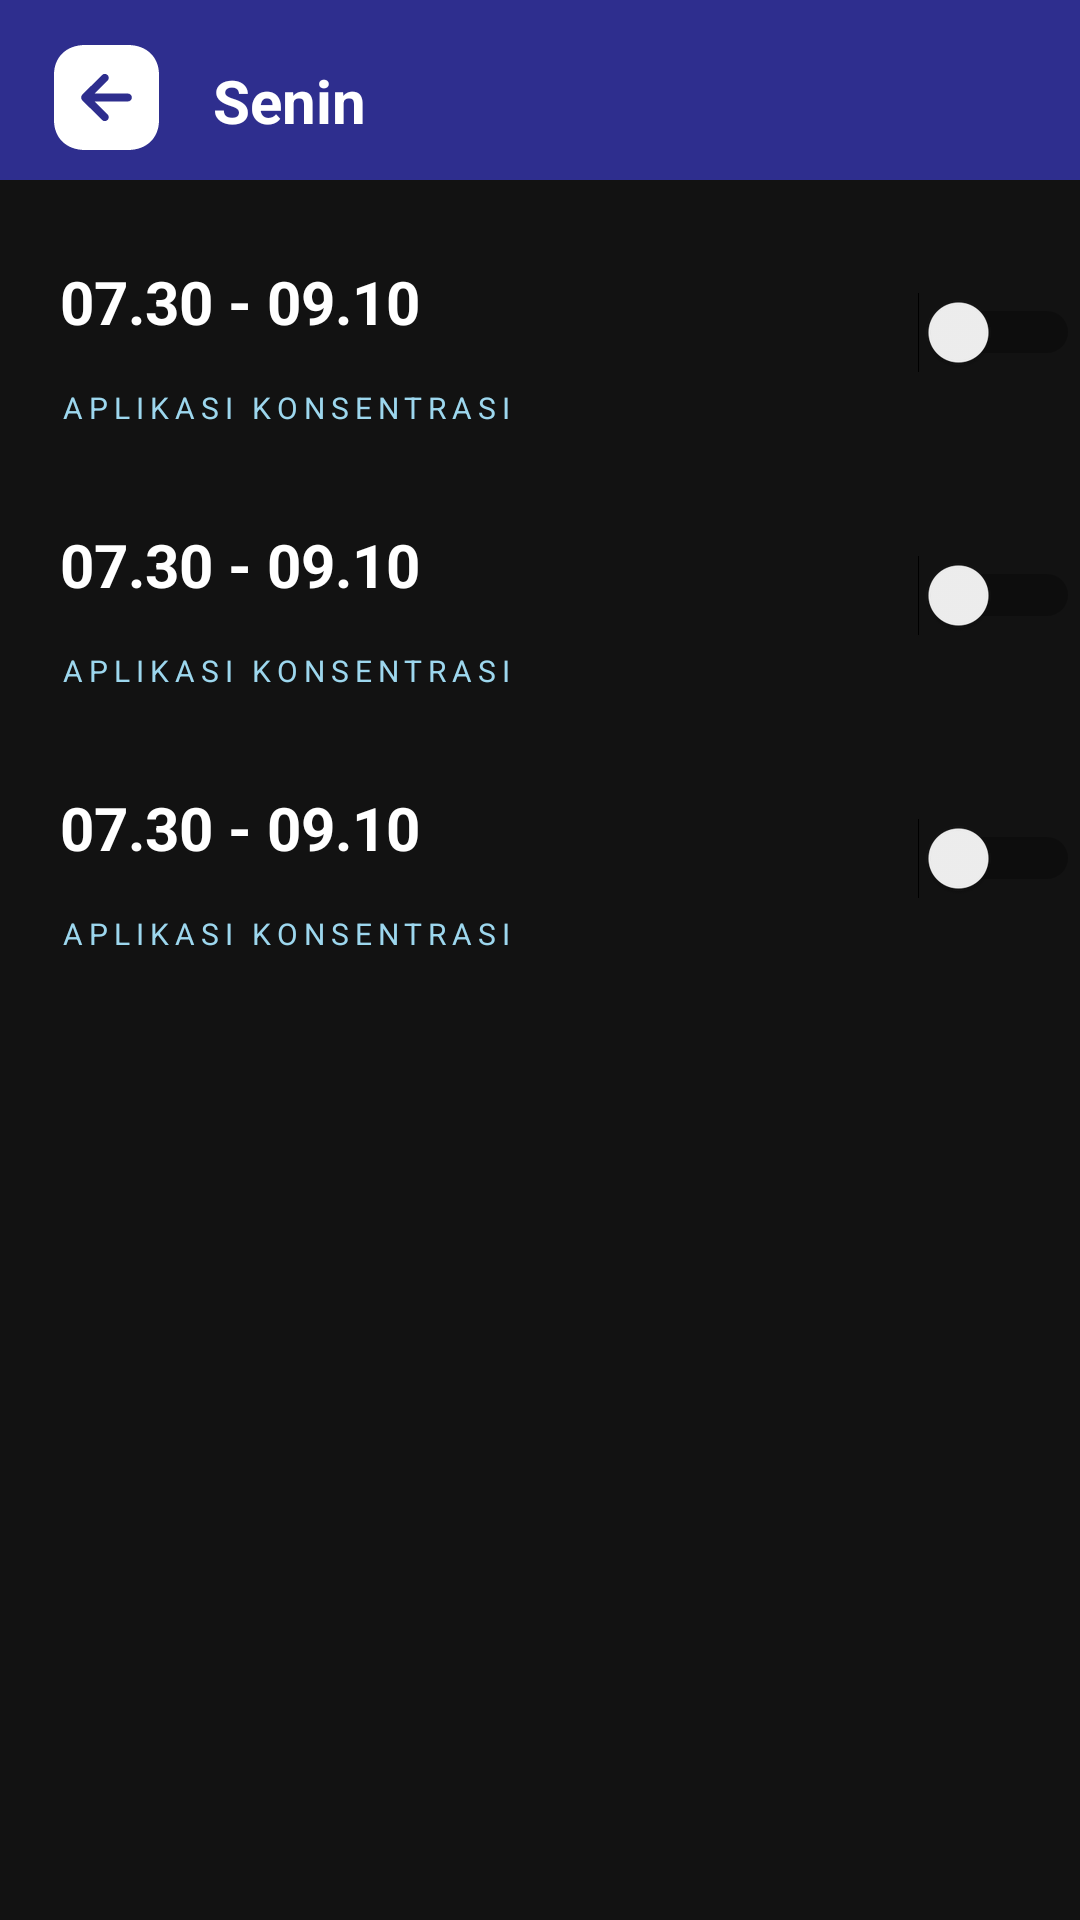

Named icons in this screenshot (1080 × 1920) and their bounding boxes, bbox=[x1, y1, x2, y2]:
arrow: bbox=[54, 45, 159, 150]
